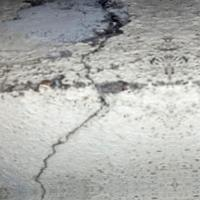crack: (12, 103, 119, 194)
